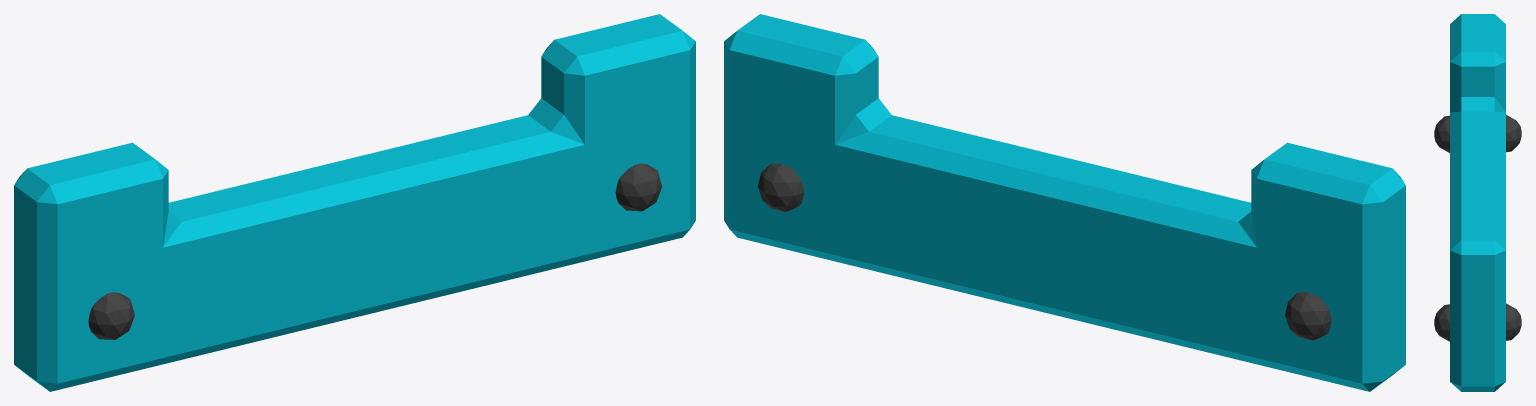
The model's file is BarBracketG.fbx.
3 views of the same model, side by side, from view 1: azimuth 30°, elevation 25°; view 2: azimuth 150°, elevation 25°; view 3: azimuth 270°, elevation 25° (orthographic). The views are drawn at different scales.
Parts seen in each view (by area): view 1: BarG; view 2: BarG; view 3: BarG.
Boxes of the visible parts, x1,y1,x2,y2 form: BarG: [14, 14, 695, 391]; BarG: [724, 14, 1405, 391]; BarG: [1434, 14, 1521, 391].
Size of the model in its own units: 1000 by 300 by 157.
